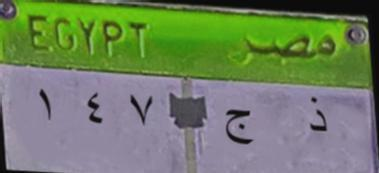1: (33, 82, 56, 128)
4: (82, 92, 107, 128)
7: (127, 92, 158, 133)
jeem: (224, 105, 258, 151)
zaal: (300, 93, 333, 142)
